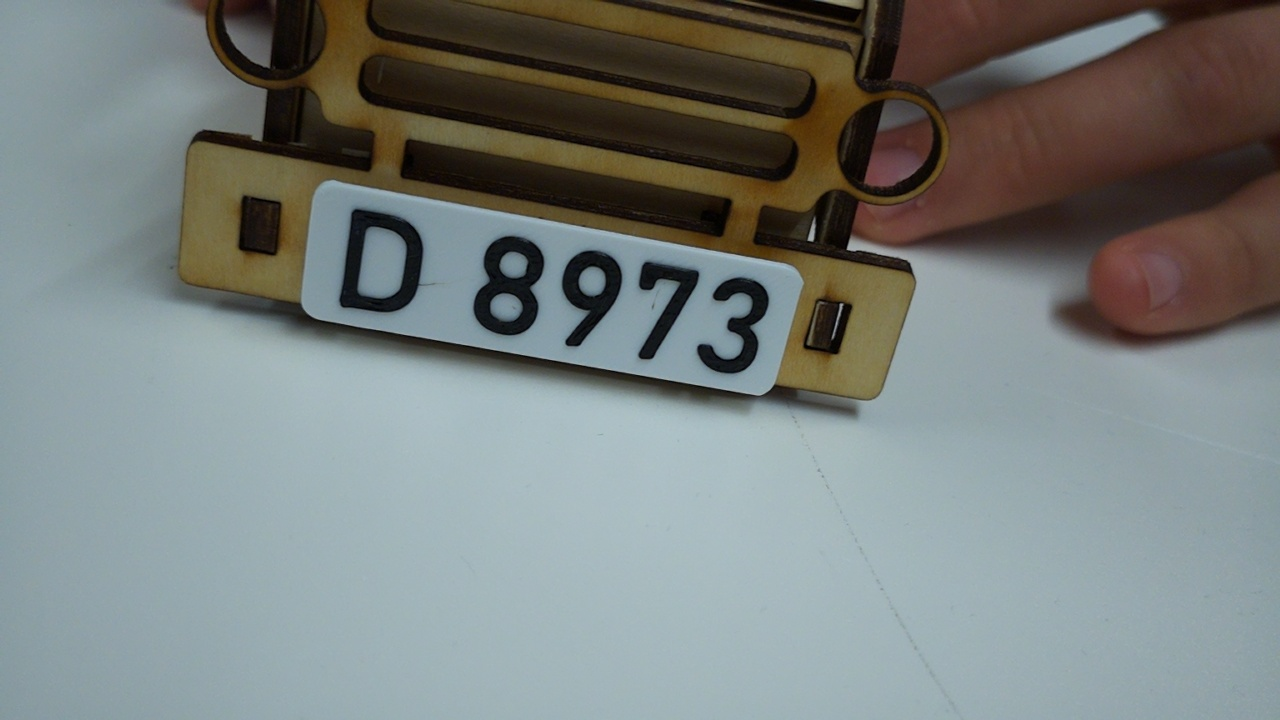license_plate: (299, 175, 809, 400)
